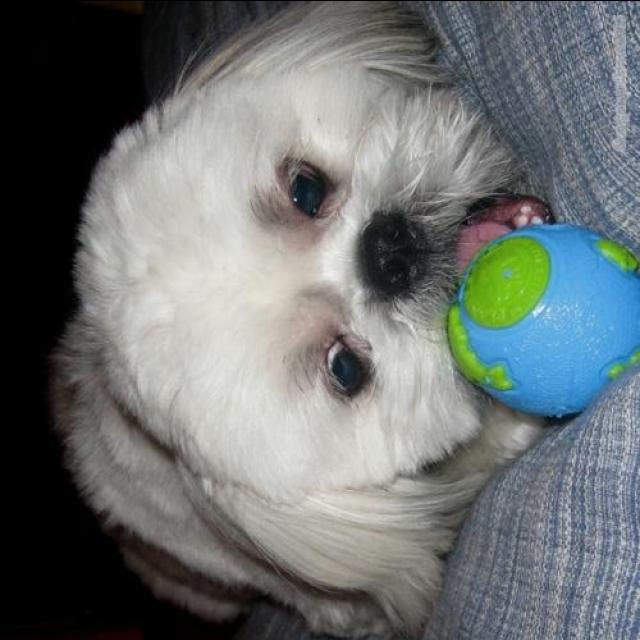shih_tzu: (44, 3, 558, 640)
